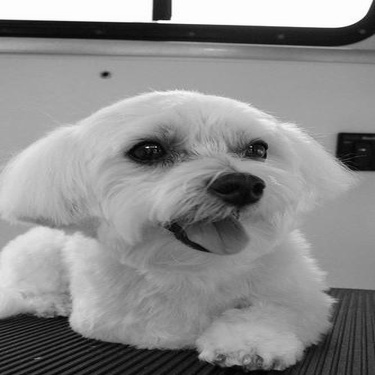dog: (1, 80, 363, 372)
